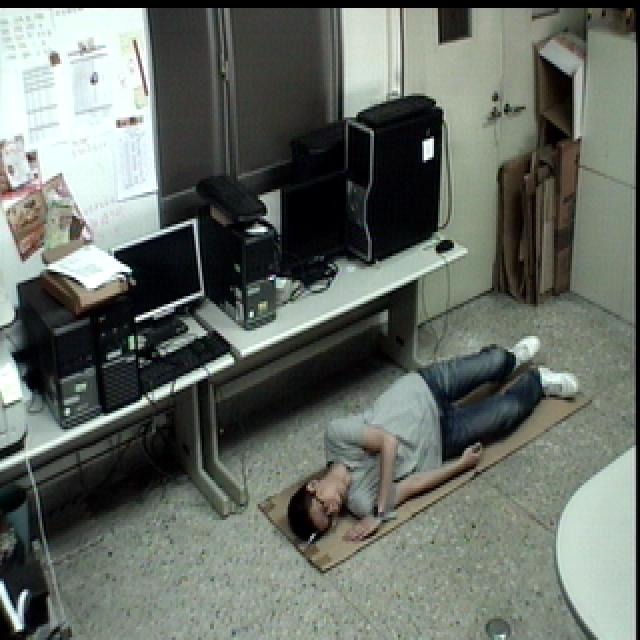lie: (283, 334, 589, 546)
